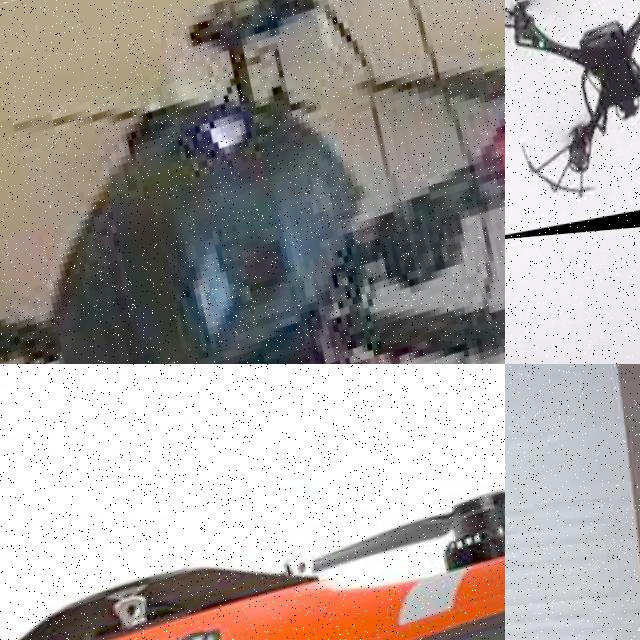0: (505, 0, 640, 242)
drone: (0, 0, 505, 364), (0, 463, 505, 640)
